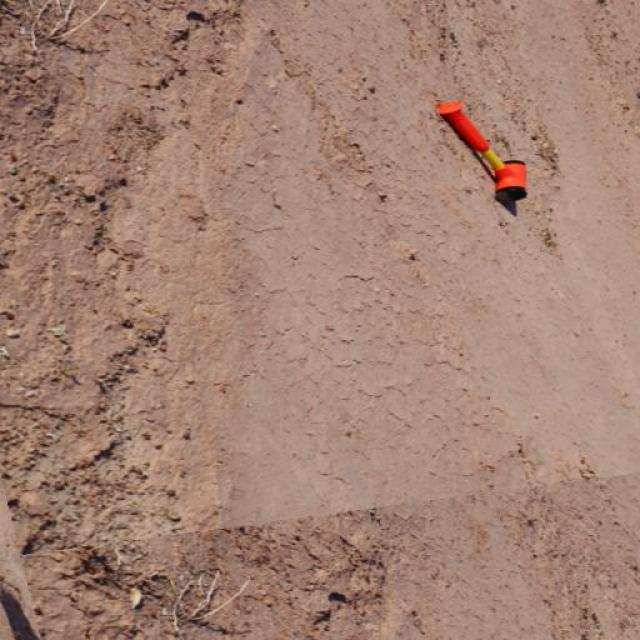mallet: (435, 99, 527, 211)
